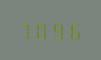nine: (50, 20, 65, 40)
seven: (18, 19, 33, 39)
six: (66, 20, 81, 40)
zero: (34, 19, 49, 39)
